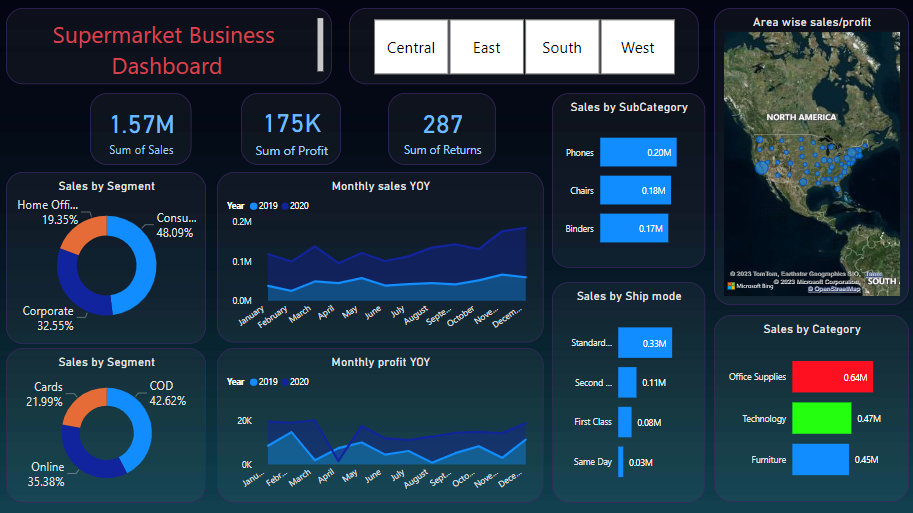

The page's visual inventory and layout, read from the dashboard file:
{"tool":"powerbi","page":{"name":"Page 1","canvas":[1280,720],"ordinal":0},"visuals":[{"type":"clusteredBarChart","title":"Sales by Category","fields":{"Category":["SuperStore_Sales_Dataset.Category"],"Y":["Sum(SuperStore_Sales_Dataset.Sales)"]},"box":[997.6,439.8,271.2,259.9],"z":0},{"type":"clusteredBarChart","title":"Sales by SubCategory","fields":{"Category":["SuperStore_Sales_Dataset.Sub-Category"],"Y":["Sum(SuperStore_Sales_Dataset.Sales)"]},"box":[772.9,130,212.9,242.9],"z":1000},{"type":"clusteredBarChart","title":"Sales by Ship mode","fields":{"Category":["SuperStore_Sales_Dataset.Ship Mode"],"Y":["Sum(SuperStore_Sales_Dataset.Sales)"]},"box":[772.9,392.9,212.9,307.1],"z":2000},{"type":"stackedAreaChart","title":"Monthly sales YOY","fields":{"Category":["SuperStore_Sales_Dataset.Order Date.Variation.Date Hierarchy.Month"],"Y":["Sum(SuperStore_Sales_Dataset.Sales)"],"Series":["SuperStore_Sales_Dataset.Order Date.Variation.Date Hierarchy.Year"]},"box":[307.7,240.3,453.8,237.5],"z":3000},{"type":"stackedAreaChart","title":"Monthly profit YOY","fields":{"Category":["SuperStore_Sales_Dataset.Order Date.Variation.Date Hierarchy.Month"],"Series":["SuperStore_Sales_Dataset.Order Date.Variation.Date Hierarchy.Year"],"Y":["Sum(SuperStore_Sales_Dataset.Profit)"]},"box":[307.7,484.7,453.8,215],"z":4000},{"type":"map","title":" Area wise sales/profit","fields":{"Category":["SuperStore_Sales_Dataset.State"],"Size":["Sum(SuperStore_Sales_Dataset.Sales)"]},"box":[997.6,12.6,271.2,413.1],"z":5000},{"type":"donutChart","title":"Sales by Segment","fields":{"Category":["SuperStore_Sales_Dataset.Segment"],"Y":["Sum(SuperStore_Sales_Dataset.Sales)"]},"box":[14.1,240.3,278.2,238.9],"z":6000},{"type":"donutChart","title":"Sales by Segment","fields":{"Y":["Sum(SuperStore_Sales_Dataset.Sales)"],"Category":["SuperStore_Sales_Dataset.Payment Mode"]},"box":[14.1,484.7,278.2,215],"z":7000},{"type":"slicer","fields":{"Values":["SuperStore_Sales_Dataset.Region"]},"box":[490,12.9,485.7,105.7],"z":8000},{"type":"textbox","box":[14.3,12.9,452.9,105.7],"z":9000},{"type":"card","fields":{"Values":["Sum(SuperStore_Sales_Dataset.Sales)"]},"box":[130,130,141.4,100],"z":10000},{"type":"card","fields":{"Values":["Sum(SuperStore_Sales_Dataset.Profit)"]},"box":[340,130,138.6,100],"z":11000},{"type":"card","fields":{"Values":["Sum(SuperStore_Sales_Dataset.Returns)"]},"box":[544.3,130,150,100],"z":12000}]}

Visuals, with their boxes in screenshot pixels (x1, y1, x2, y2), scaled from the page's 1280x720 canvas onto the 913x513 screenshot:
"Sales by Category" clusteredBarChart: {"x1": 712, "y1": 313, "x2": 905, "y2": 499}
"Sales by SubCategory" clusteredBarChart: {"x1": 551, "y1": 93, "x2": 703, "y2": 266}
"Sales by Ship mode" clusteredBarChart: {"x1": 551, "y1": 280, "x2": 703, "y2": 499}
"Monthly sales YOY" stackedAreaChart: {"x1": 219, "y1": 171, "x2": 543, "y2": 340}
"Monthly profit YOY" stackedAreaChart: {"x1": 219, "y1": 345, "x2": 543, "y2": 499}
" Area wise sales/profit" map: {"x1": 712, "y1": 9, "x2": 905, "y2": 303}
"Sales by Segment" donutChart: {"x1": 10, "y1": 171, "x2": 208, "y2": 341}
"Sales by Segment" donutChart: {"x1": 10, "y1": 345, "x2": 208, "y2": 499}
slicer - SuperStore_Sales_Dataset.Region: {"x1": 350, "y1": 9, "x2": 696, "y2": 85}
textbox: {"x1": 10, "y1": 9, "x2": 333, "y2": 85}
card - Sum(SuperStore_Sales_Dataset.Sales): {"x1": 93, "y1": 93, "x2": 194, "y2": 164}
card - Sum(SuperStore_Sales_Dataset.Profit): {"x1": 243, "y1": 93, "x2": 341, "y2": 164}
card - Sum(SuperStore_Sales_Dataset.Returns): {"x1": 388, "y1": 93, "x2": 495, "y2": 164}
